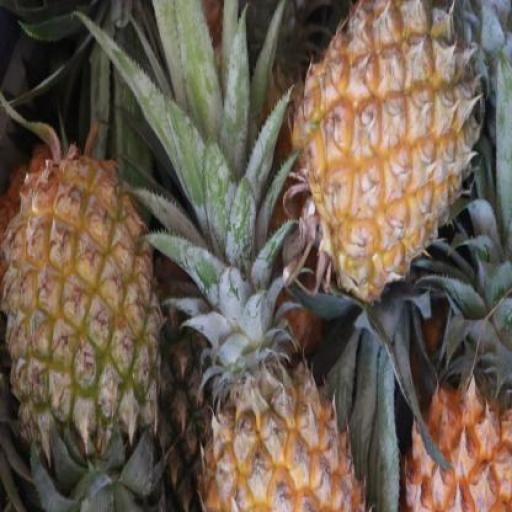------------------------------: (0, 157, 160, 456)
Pineapple - v8 v1: (285, 0, 494, 295), (193, 363, 371, 512)
